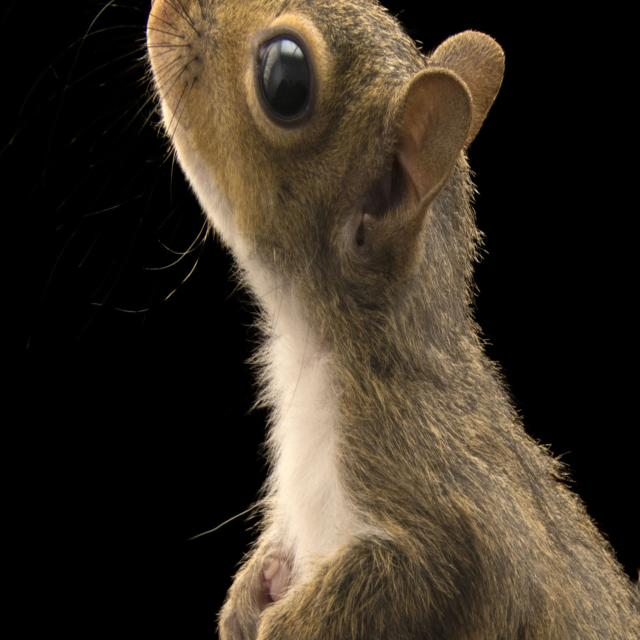Squirrel: (145, 0, 633, 640)
